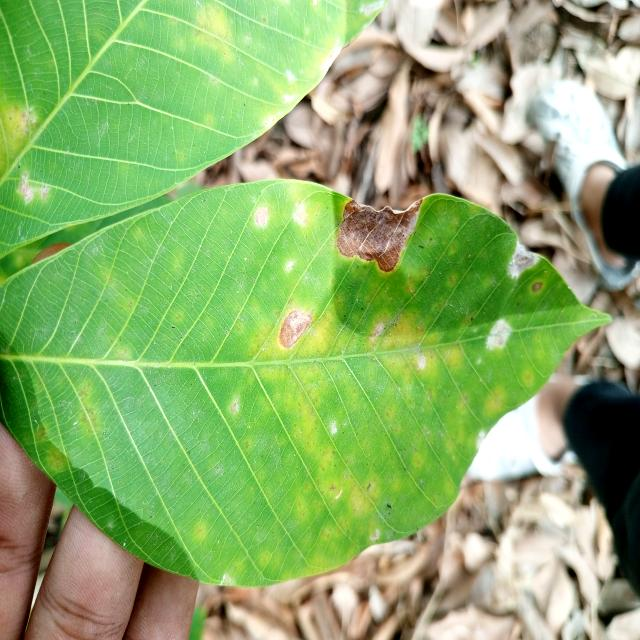Leaf-Blight: (338, 198, 422, 272), (279, 310, 311, 349)
